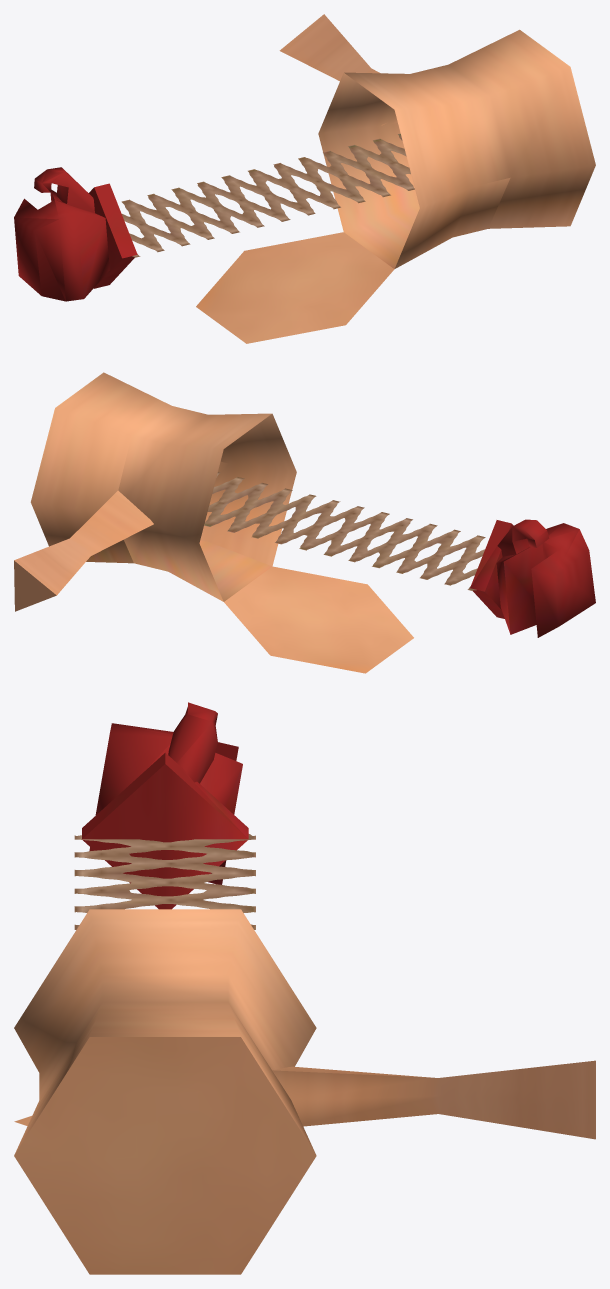
The model's file is gavel.glb.
3 renders of one model, top to bottom at view 1: azimuth 30°, elevation 25°; view 2: azimuth 150°, elevation 25°; view 3: azimuth 270°, elevation 25°, orthographic. The views are drawn at different scales.
Visible parts, largest first — view 1: gavel; view 2: gavel; view 3: gavel.
Boxes of the visible parts, box(x1,y1,x2,y2) form: gavel: box(14, 14, 595, 343); gavel: box(14, 372, 595, 673); gavel: box(14, 702, 595, 1274).
Size of the model in its own units: 1.49 by 0.5375 by 0.9614.
Materials: 4 (4 with a texture image).
